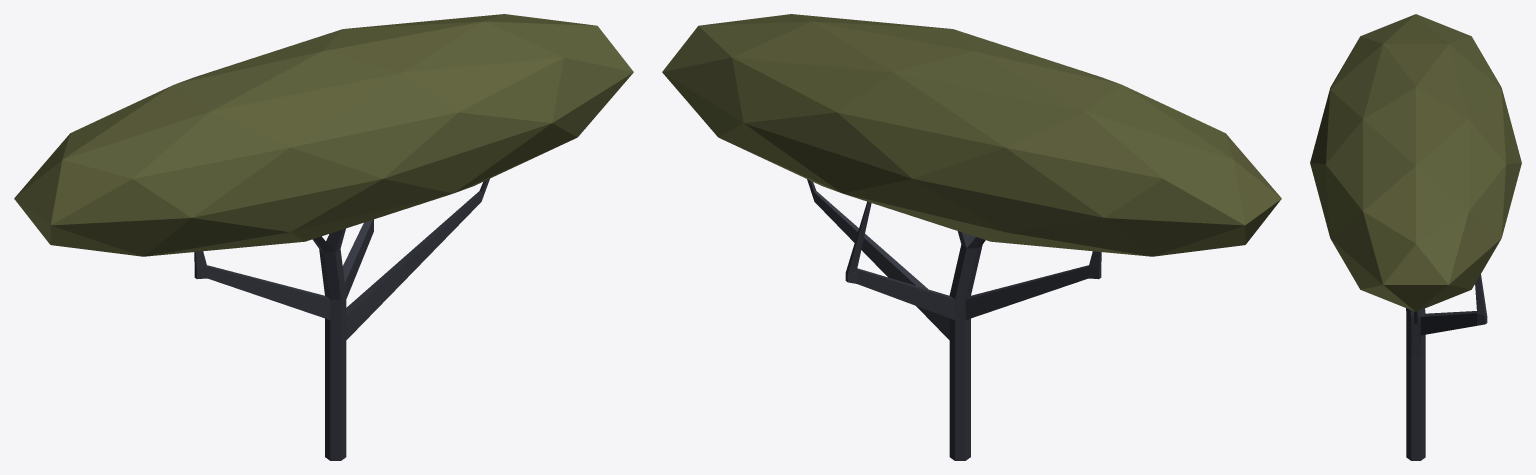
The model's file is マホガニー.fbx.
The picture shows the model from 3 angles, left to right: view 1: azimuth 30°, elevation 25°; view 2: azimuth 150°, elevation 25°; view 3: azimuth 270°, elevation 25°; orthographic projection. The views are drawn at different scales.
Visible parts, largest first — view 1: ICO球, 円柱; view 2: ICO球, 円柱; view 3: ICO球, 円柱.
Part boxes in pixels (<box>): ICO球: <box>14,14,633,256</box>; 円柱: <box>194,178,489,460</box>; ICO球: <box>662,14,1281,256</box>; 円柱: <box>807,179,1101,460</box>; ICO球: <box>1310,14,1521,311</box>; 円柱: <box>1406,274,1487,460</box>.
Size of the model in its own units: 1256 by 842 by 443.
